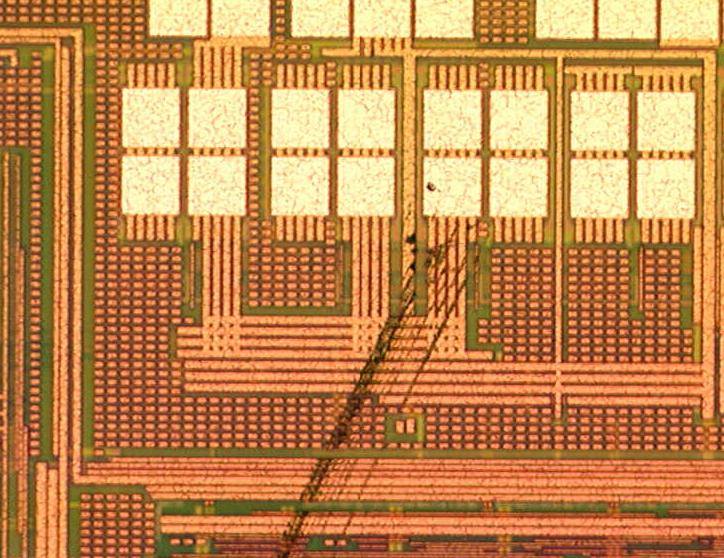SCRATCH: (268, 183, 523, 558)
